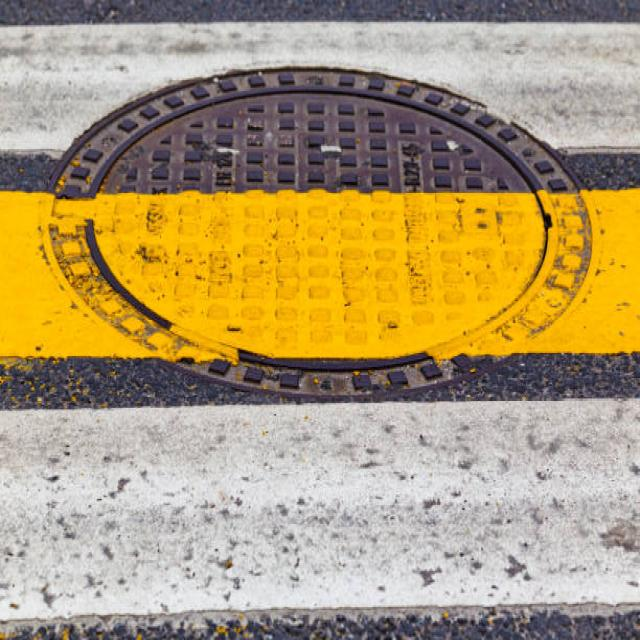Good: (38, 56, 608, 418)
